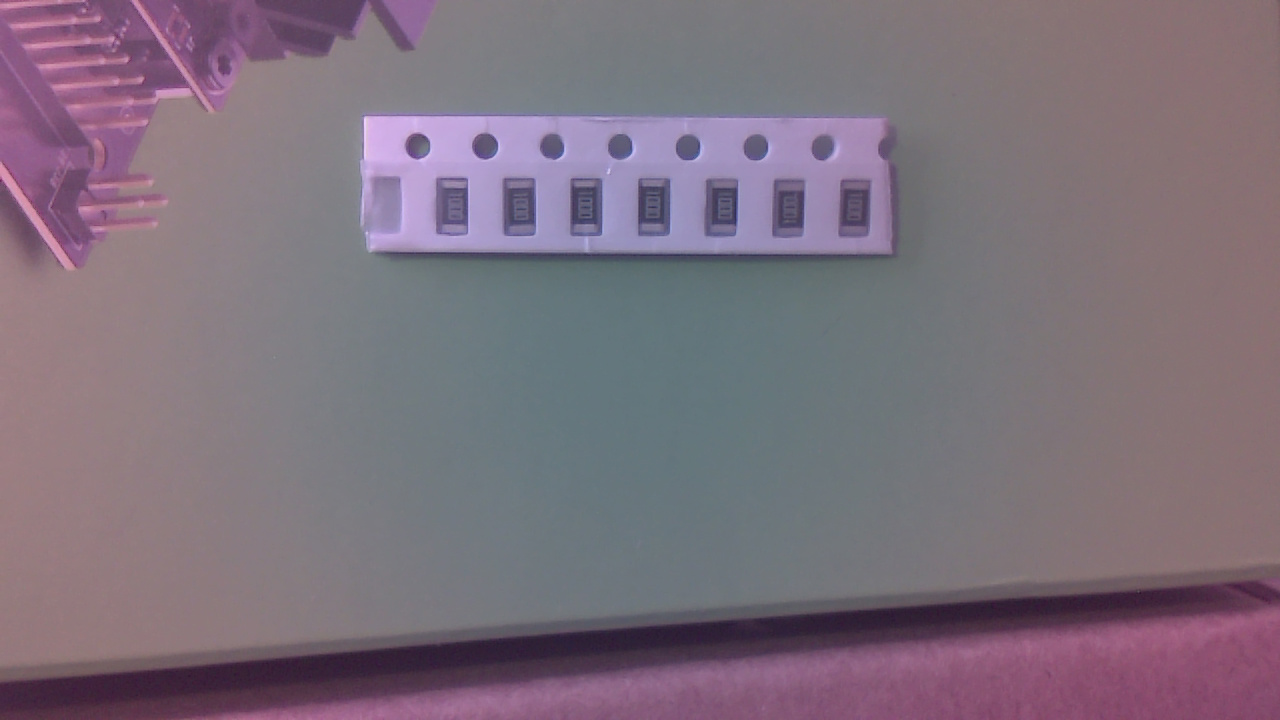Resistor: (709, 183, 744, 241), (844, 180, 876, 240), (643, 186, 678, 240), (442, 183, 475, 240), (508, 183, 540, 240), (575, 184, 607, 238), (779, 185, 811, 239)
